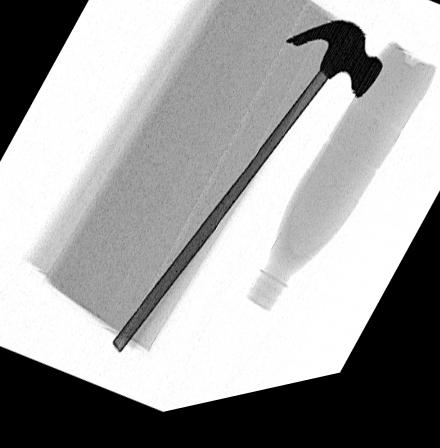Hammer: (110, 34, 384, 358)
